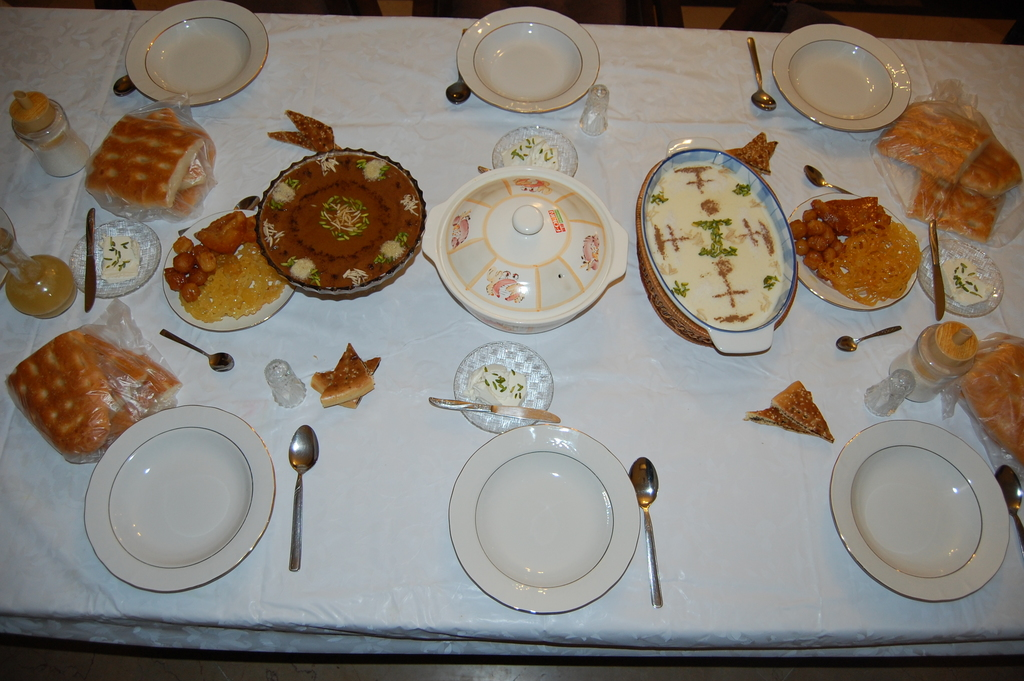plate: (83, 402, 279, 596), (448, 423, 643, 616), (834, 415, 999, 598), (456, 4, 600, 118), (771, 23, 909, 134)
